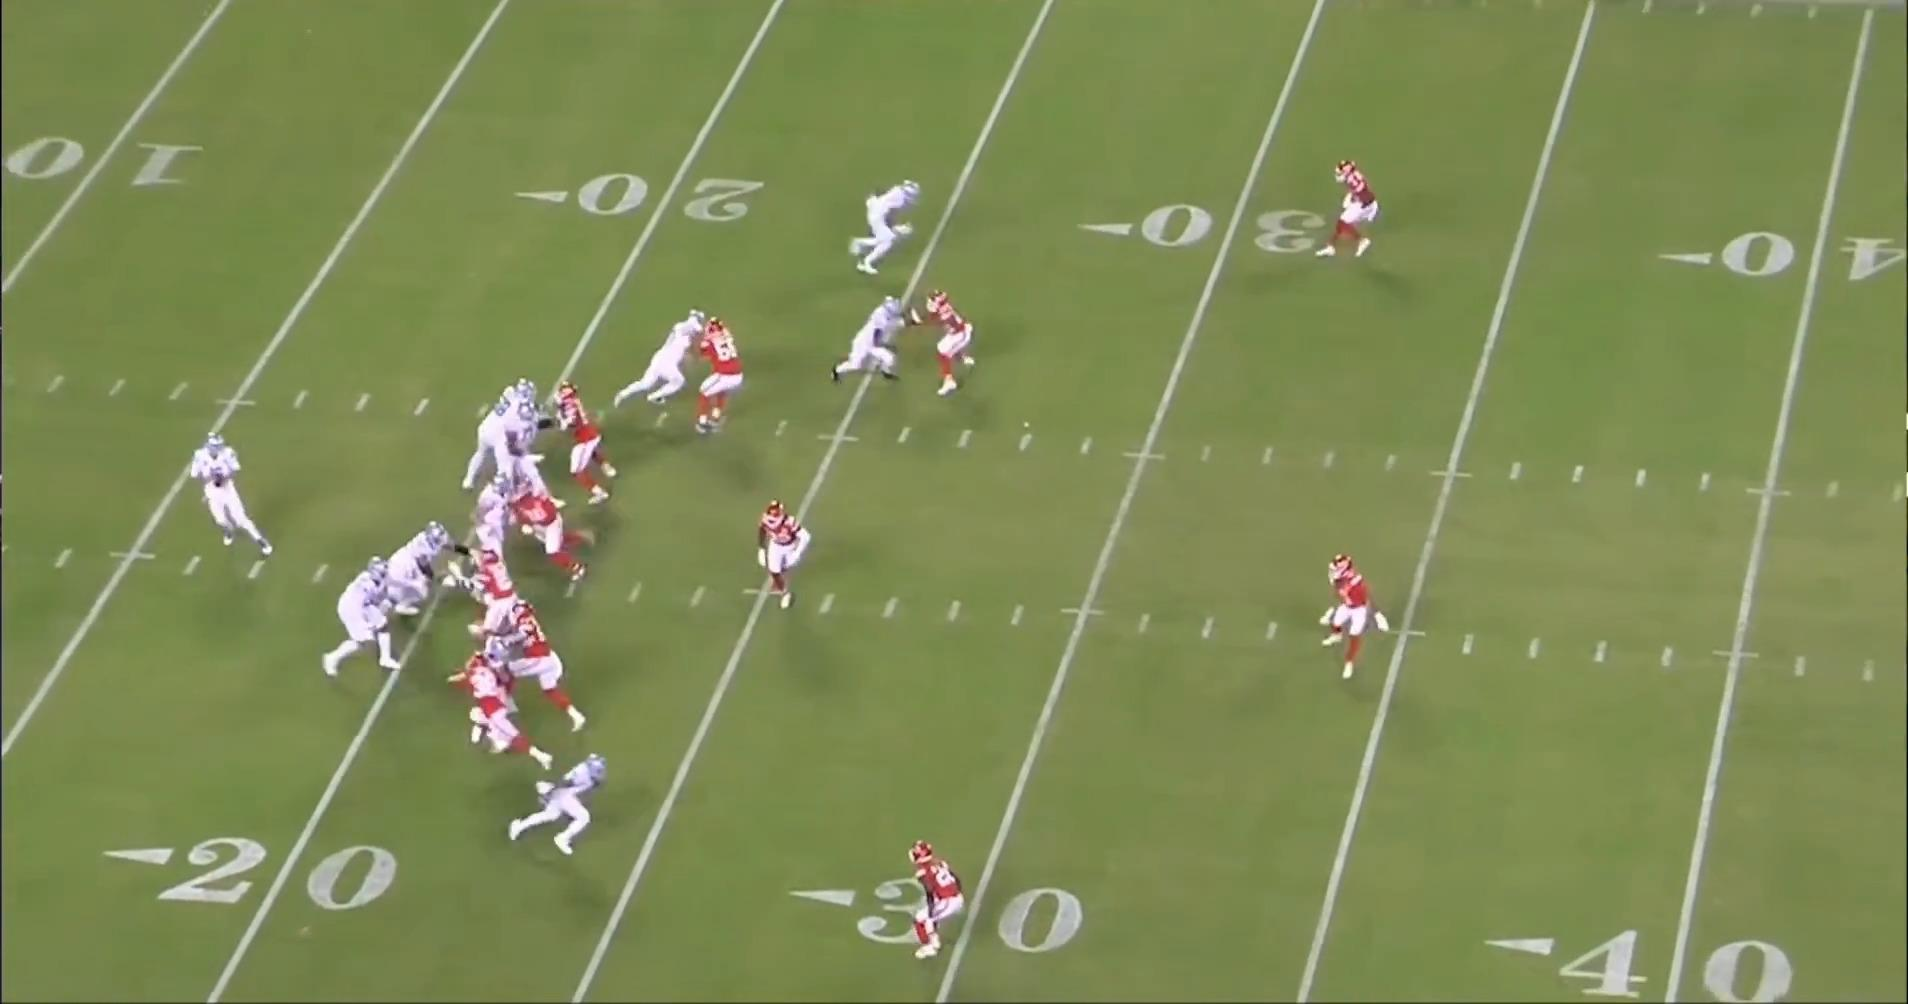defense: (443, 642, 557, 772), (487, 593, 589, 730), (498, 459, 590, 583), (545, 386, 621, 510), (1320, 550, 1384, 686), (464, 540, 533, 661), (902, 837, 965, 965), (743, 498, 811, 616), (1322, 153, 1387, 263), (691, 321, 748, 441), (918, 291, 974, 403)
oline: (320, 555, 406, 684), (462, 377, 548, 497), (482, 397, 568, 510), (389, 522, 463, 628), (469, 471, 527, 562)
qb: (190, 435, 283, 564)
skill: (507, 749, 619, 859), (619, 313, 714, 416), (840, 178, 924, 282), (831, 297, 920, 393), (461, 633, 521, 748)
